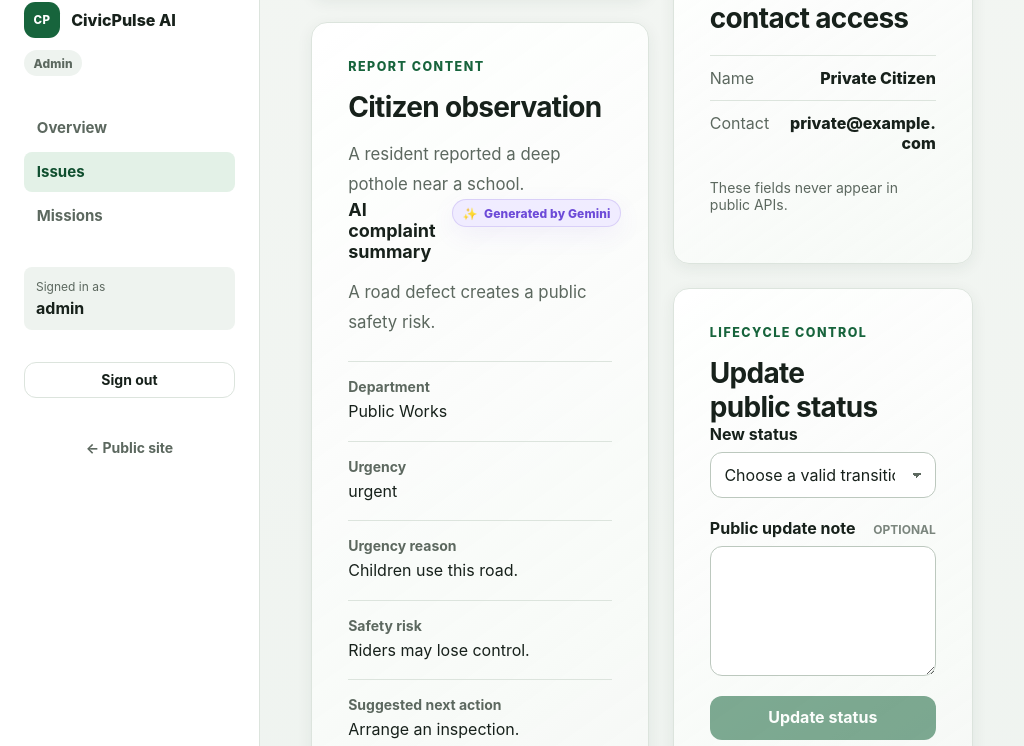
Test case: administrator workflow › shows private details and confirms a rejection with CSRF
The image size is (1024, 746).
(page scrolled)
Check: the text "private@example.com" is shown, box [785, 113, 936, 153]
Select "Rejected" in the dropdown labelled "New status" at (823, 475), box [710, 452, 936, 498]
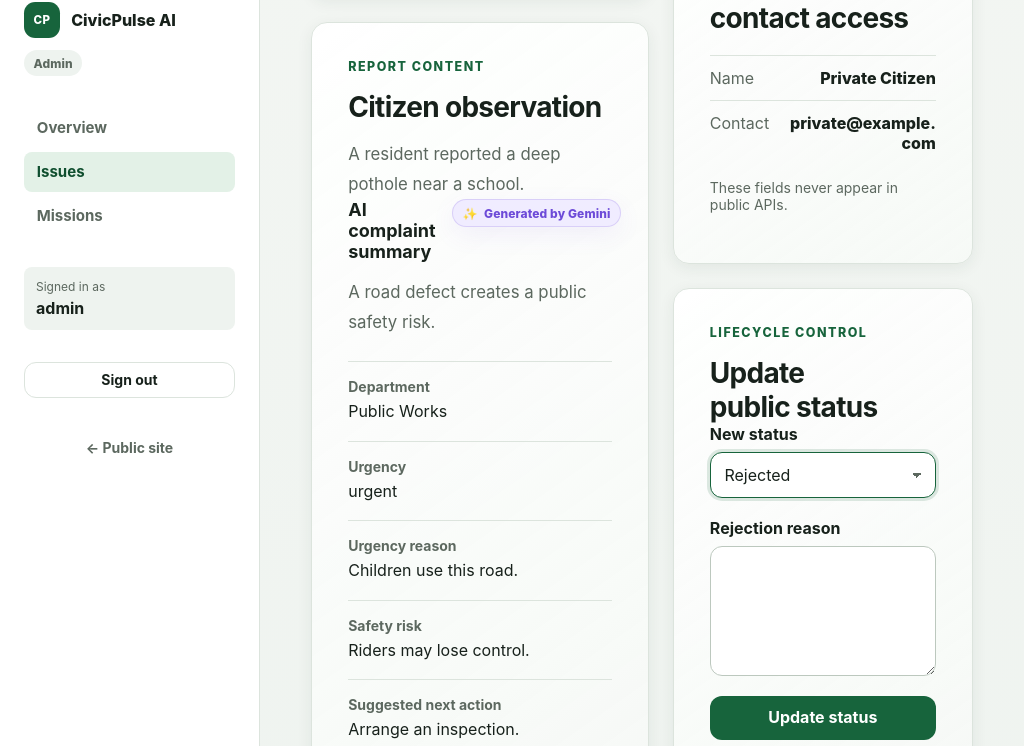
Type "Duplicate of an existing civic issue." into the text box labelled "Rejection reason" at (823, 611), box [710, 546, 936, 676]
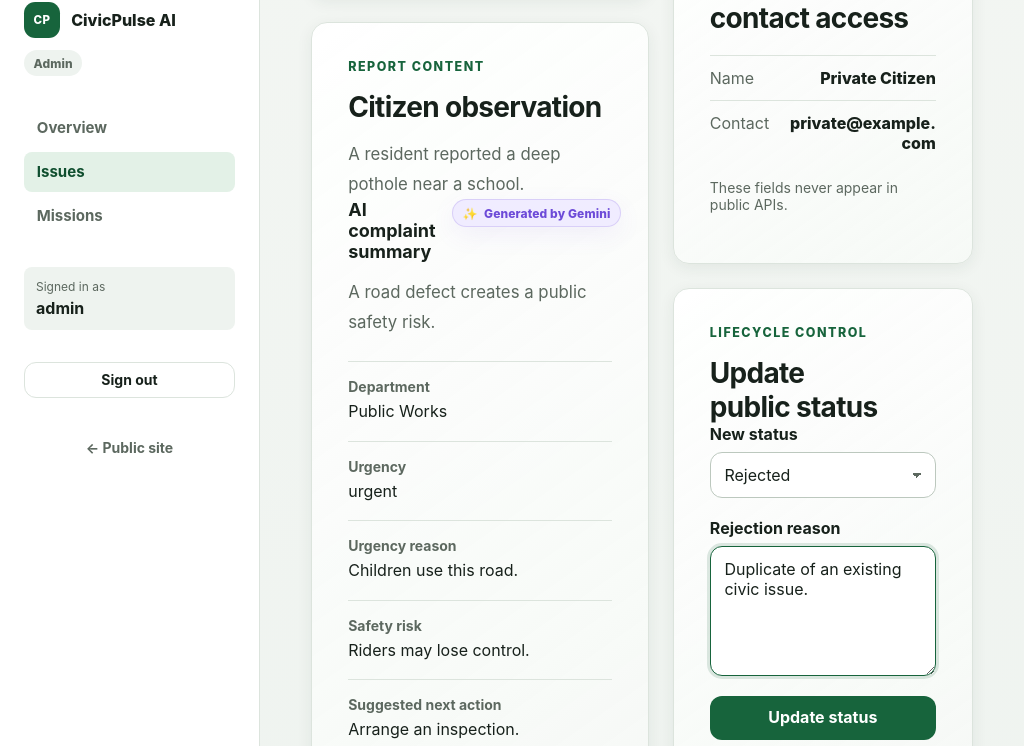
Click the button "Update status" at (823, 718), box [710, 696, 936, 740]
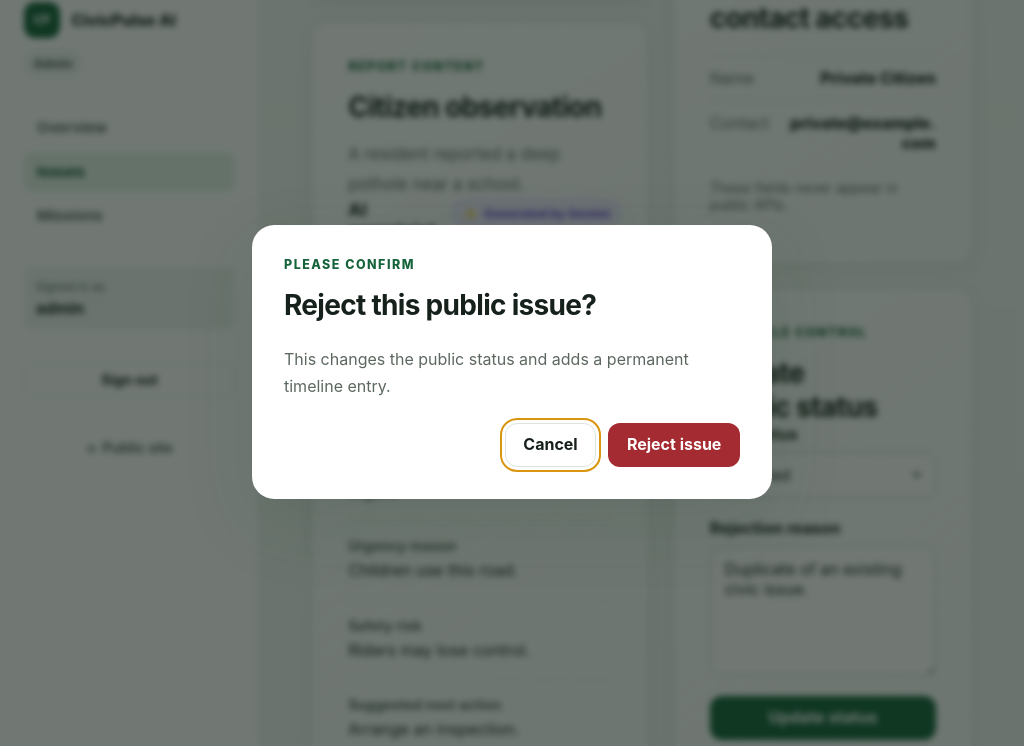
Check: the dialog is shown, box [252, 225, 772, 499]
Click the button "Reject issue" at (674, 445), box [608, 423, 740, 467]
(page scrolled)
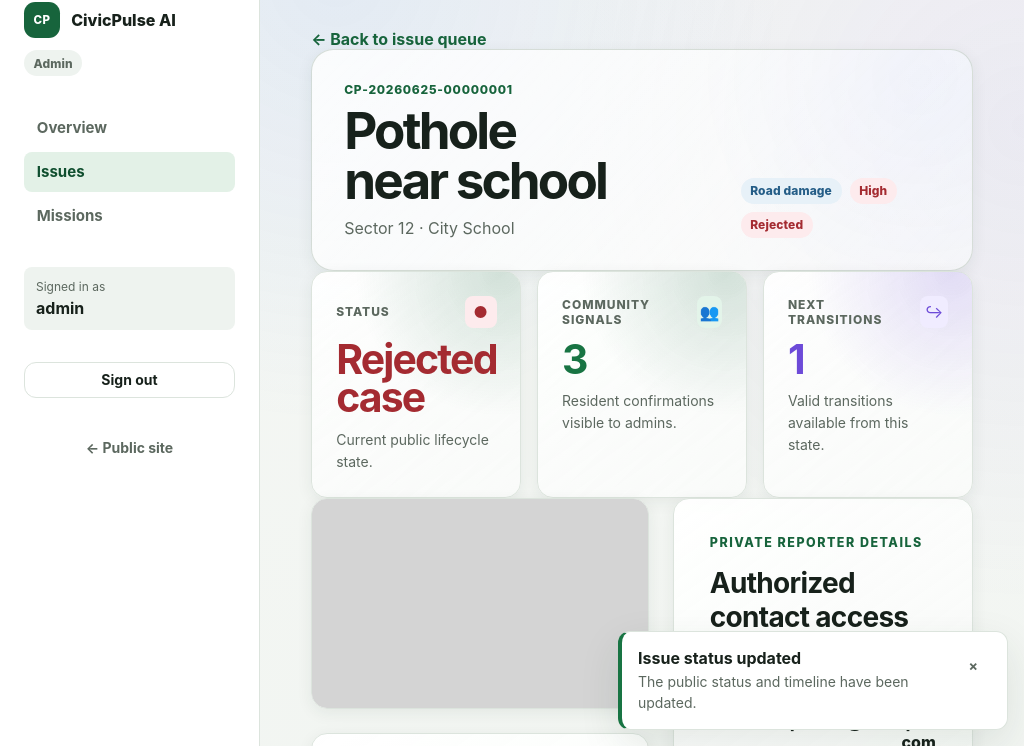
Check: the text "Rejected" is shown, box [740, 212, 813, 238]
